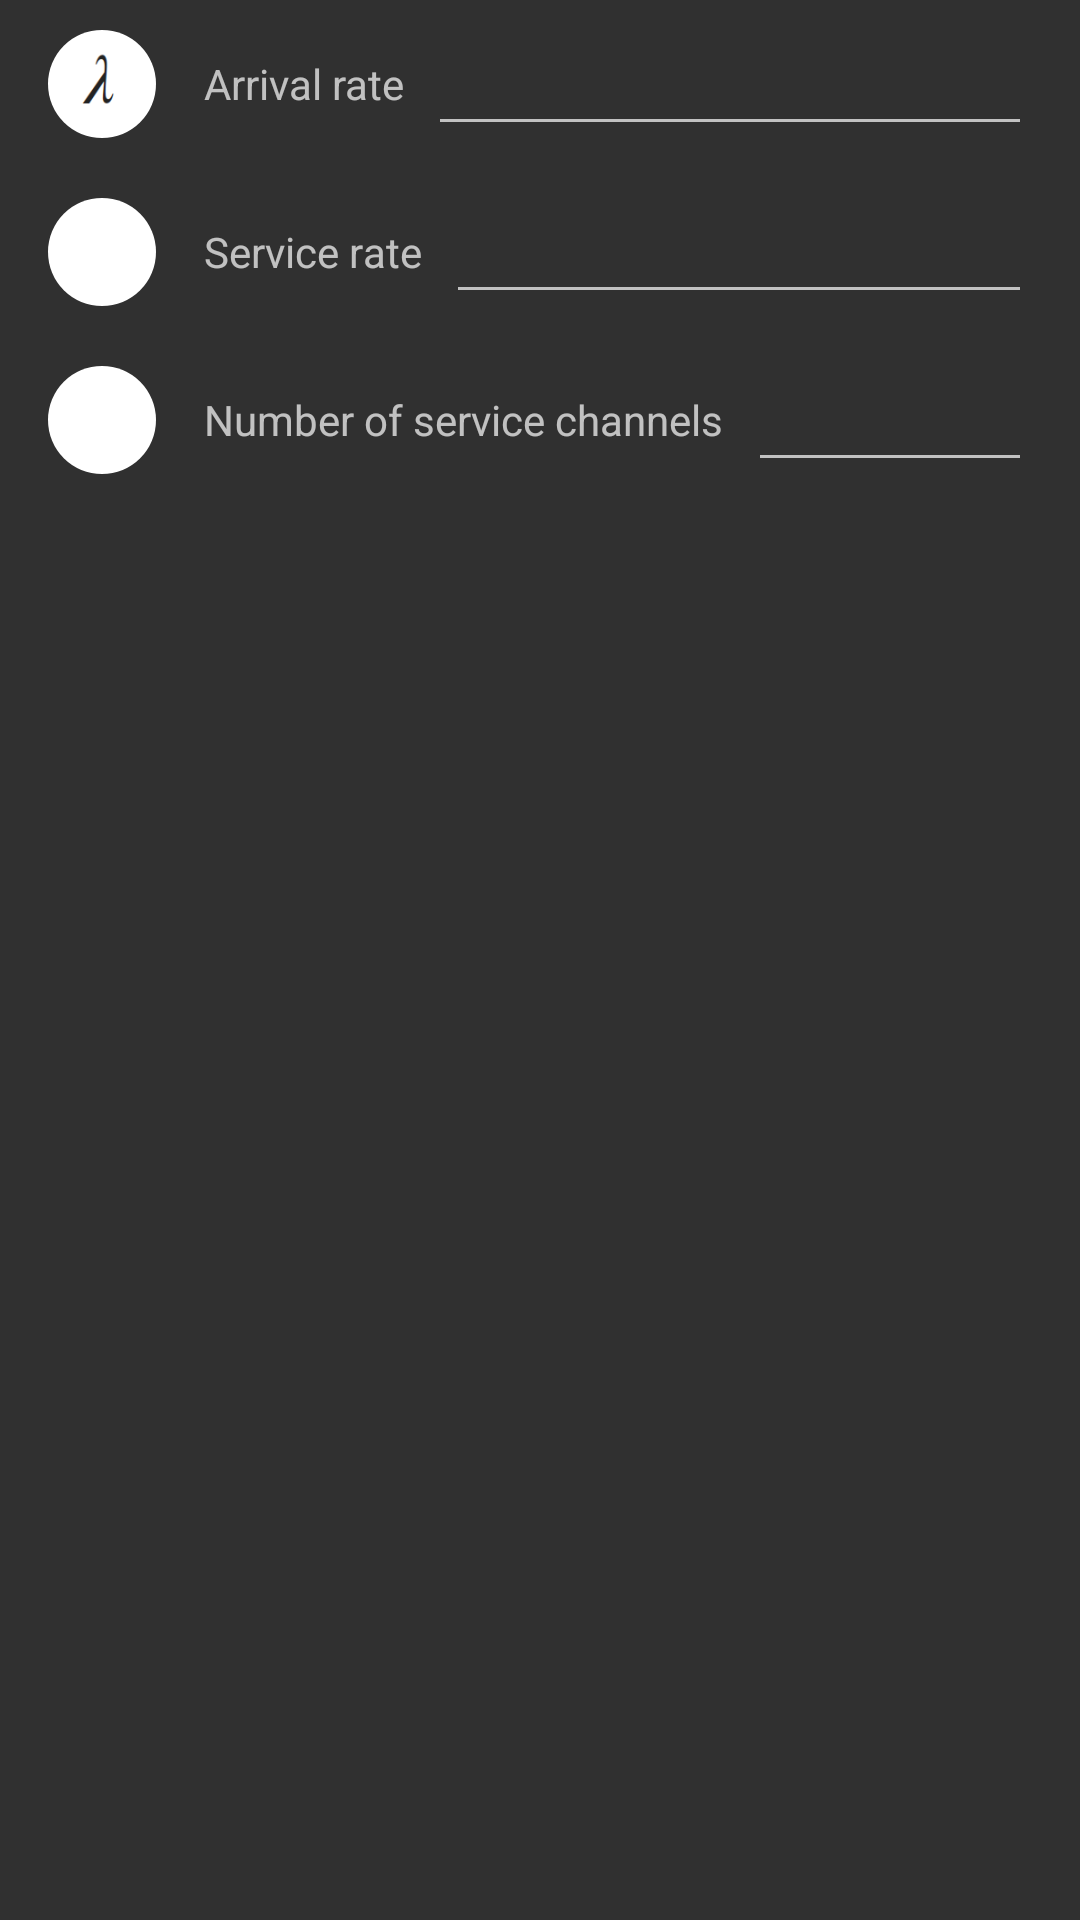

Icons on this 1080w x 1920h Android screen, each with the point to tap as point (x, y):
lamda: point (102, 84)
